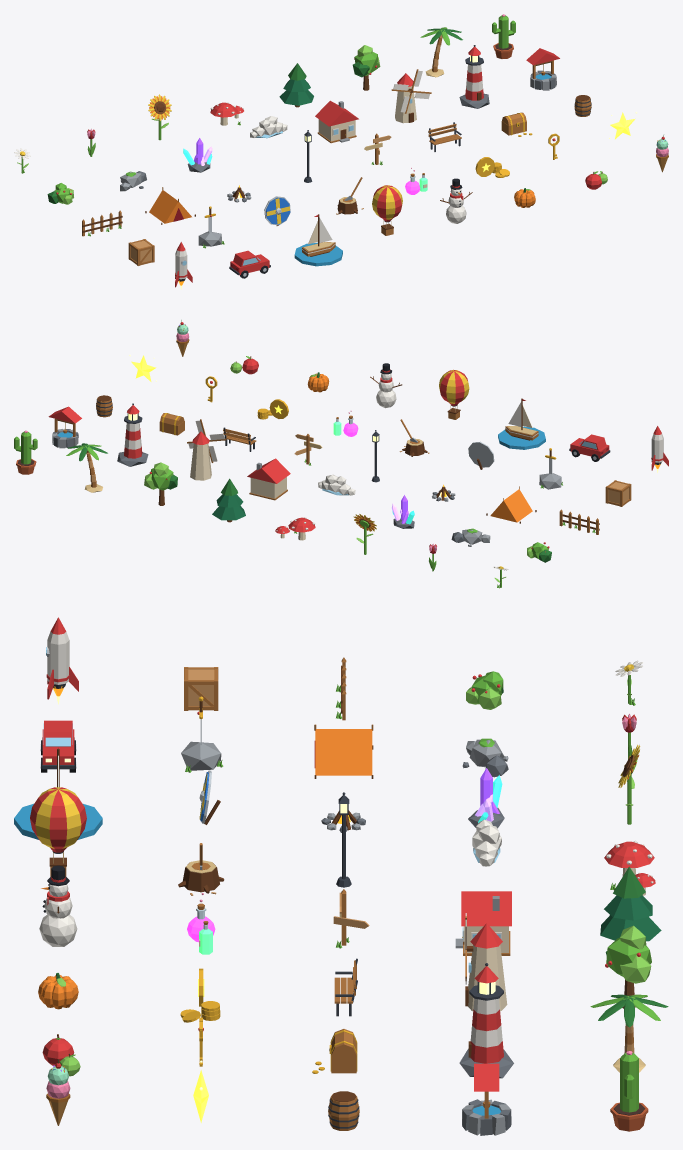
Rendered from lowpoly_pack.glb.
3 renders of one model, top to bottom at view 1: azimuth 30°, elevation 25°; view 2: azimuth 150°, elevation 25°; view 3: azimuth 270°, elevation 25°, orthographic. The views are drawn at different scales.
Visible parts, largest first — view 1: House, Sailboat, Windmill, Lighthouse, Hot Air Balloon, Well, Pine Tree, Tent, Car, Cactus, Round Tree, Snowman (+14 smaller); view 2: Sailboat, House, Windmill, Lighthouse, Hot Air Balloon, Well, Pine Tree, Tent, Round Tree, Car, Cactus, Snowman (+12 smaller); view 3: Lighthouse, Hot Air Balloon, Tent, House, Pine Tree, Well, Snowman, Round Tree, Windmill, Cactus, Car, Rocket (+18 smaller).
Part boxes in pixels (x1,y1,x2,y2): House: (315, 100, 358, 143); Sailboat: (294, 214, 342, 266); Windmill: (391, 69, 431, 123); Lighthouse: (459, 45, 489, 108); Hot Air Balloon: (372, 185, 402, 235); Well: (526, 48, 559, 90); Pine Tree: (279, 63, 313, 107); Tent: (145, 187, 195, 224); Car: (229, 250, 270, 278); Cactus: (492, 14, 515, 58); Round Tree: (352, 45, 380, 90); Snowman: (440, 178, 472, 223); Sailboat: (498, 398, 545, 449); House: (247, 458, 290, 500); Windmill: (187, 419, 226, 480); Lighthouse: (117, 403, 148, 466); Hot Air Balloon: (439, 369, 469, 419); Well: (48, 406, 81, 448); Pine Tree: (212, 478, 245, 522); Tent: (486, 486, 536, 523); Round Tree: (144, 462, 177, 505); Car: (569, 434, 610, 461); Cactus: (14, 430, 37, 474); Snowman: (370, 363, 402, 408); Lighthouse: (459, 963, 513, 1078); Hot Air Balloon: (30, 787, 86, 876); Tent: (314, 724, 373, 778); House: (455, 891, 511, 955); Pine Tree: (600, 866, 661, 941); Well: (462, 1063, 511, 1135); Snowman: (39, 865, 77, 946); Round Tree: (605, 925, 651, 995); Windmill: (465, 913, 507, 1011); Cactus: (610, 1051, 648, 1131); Car: (40, 720, 76, 772); Rocket: (46, 617, 78, 704).
Bounding box in the file's own units: 33.75 × 3.86 × 20.65.
